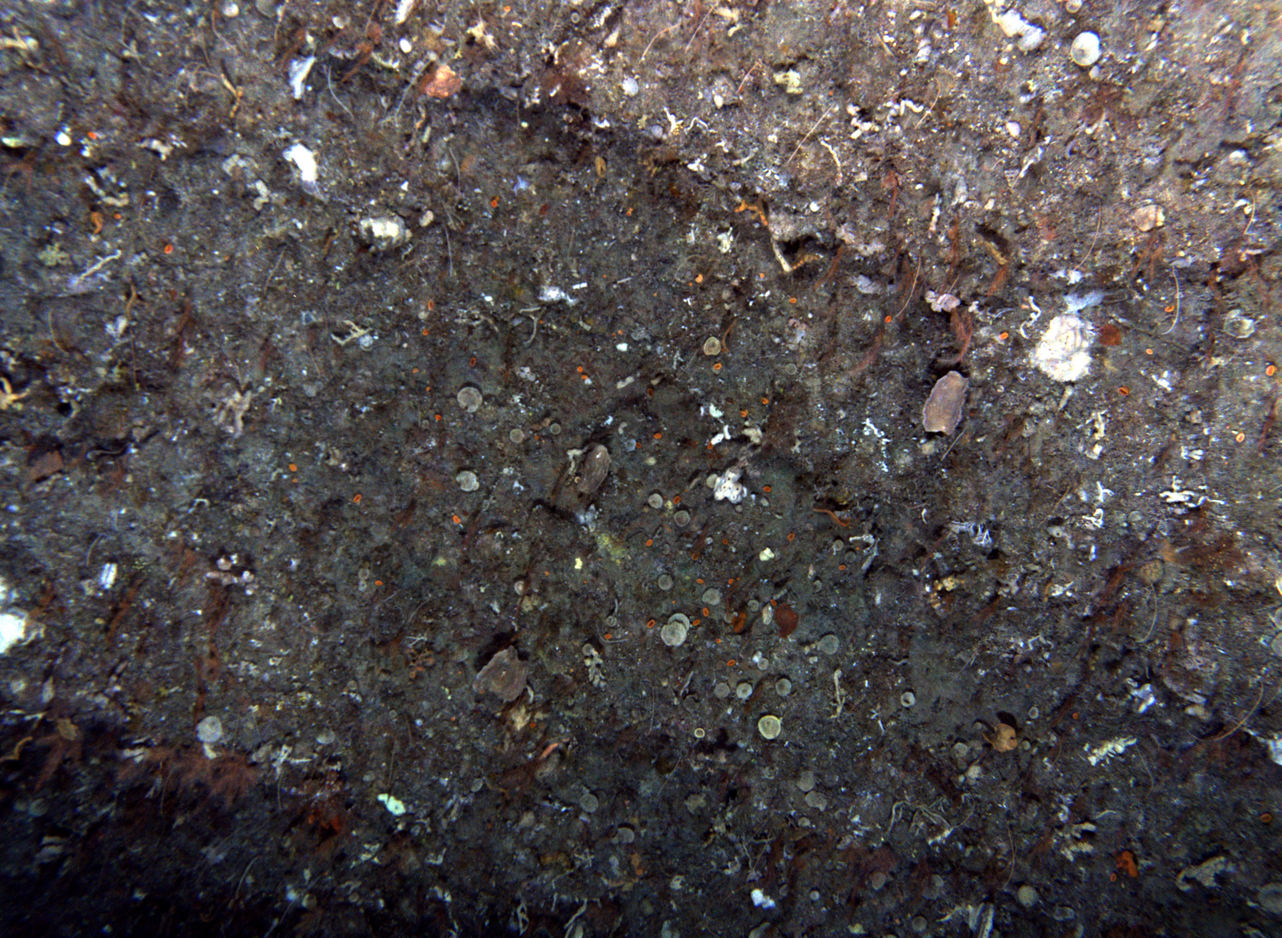Brachionichthyidae: (12, 448, 66, 491)
